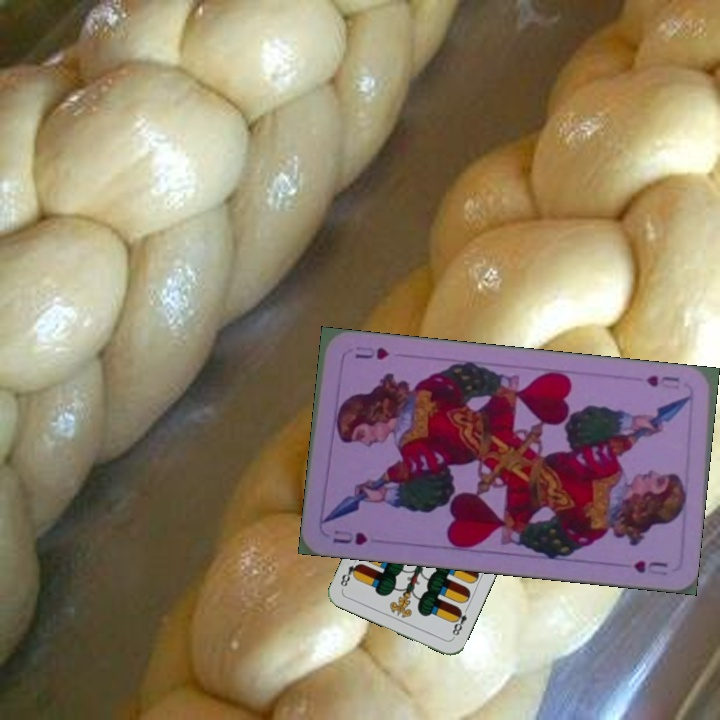E8: (448, 603, 471, 641)
HU: (641, 371, 682, 393), (329, 528, 370, 548)
